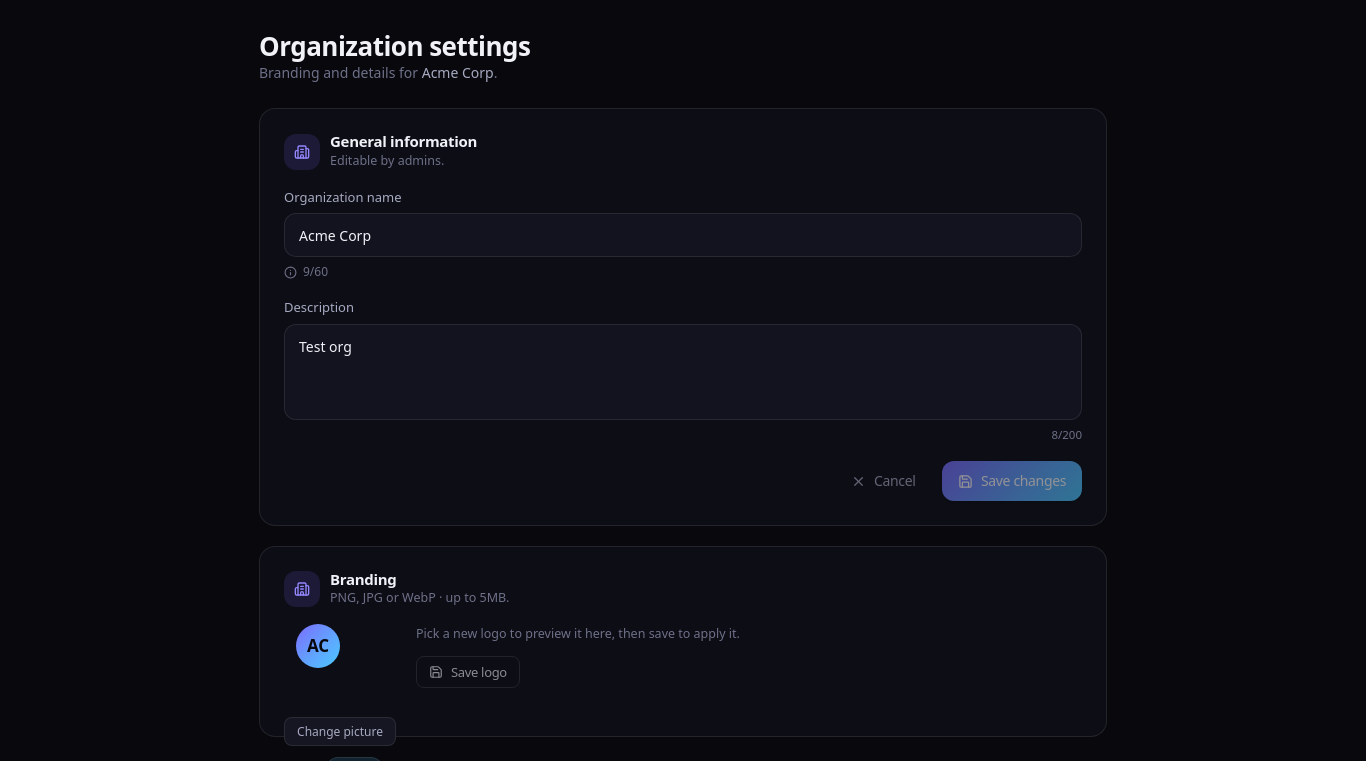
it: OrganizationSettings page › saves org info changes
This screenshot has width=1366, height=761.
Replace the text in the field labelled "Organization name" with "Updated Corp" at (683, 235), box x1=284 y1=213 x2=1082 y2=257
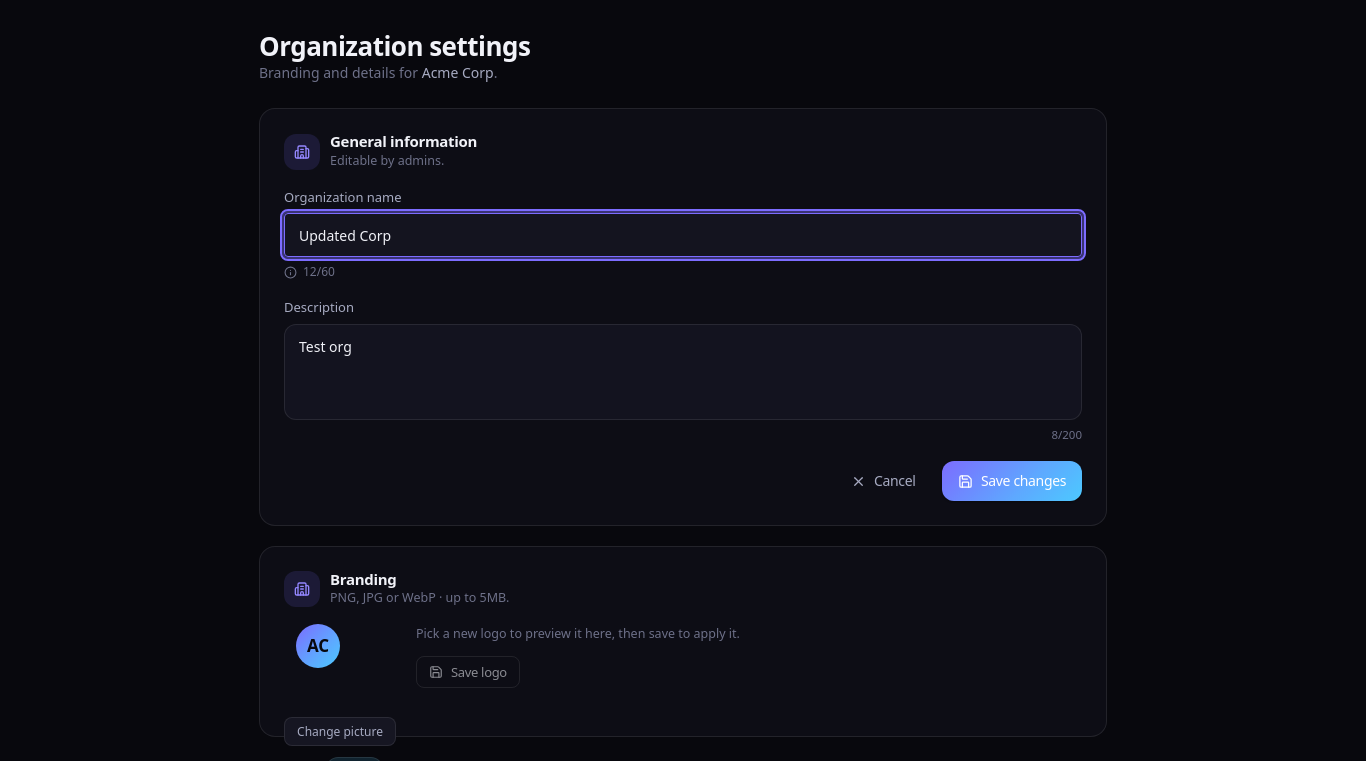
Click the button "Save changes" at (1012, 480), box x1=942 y1=460 x2=1082 y2=500
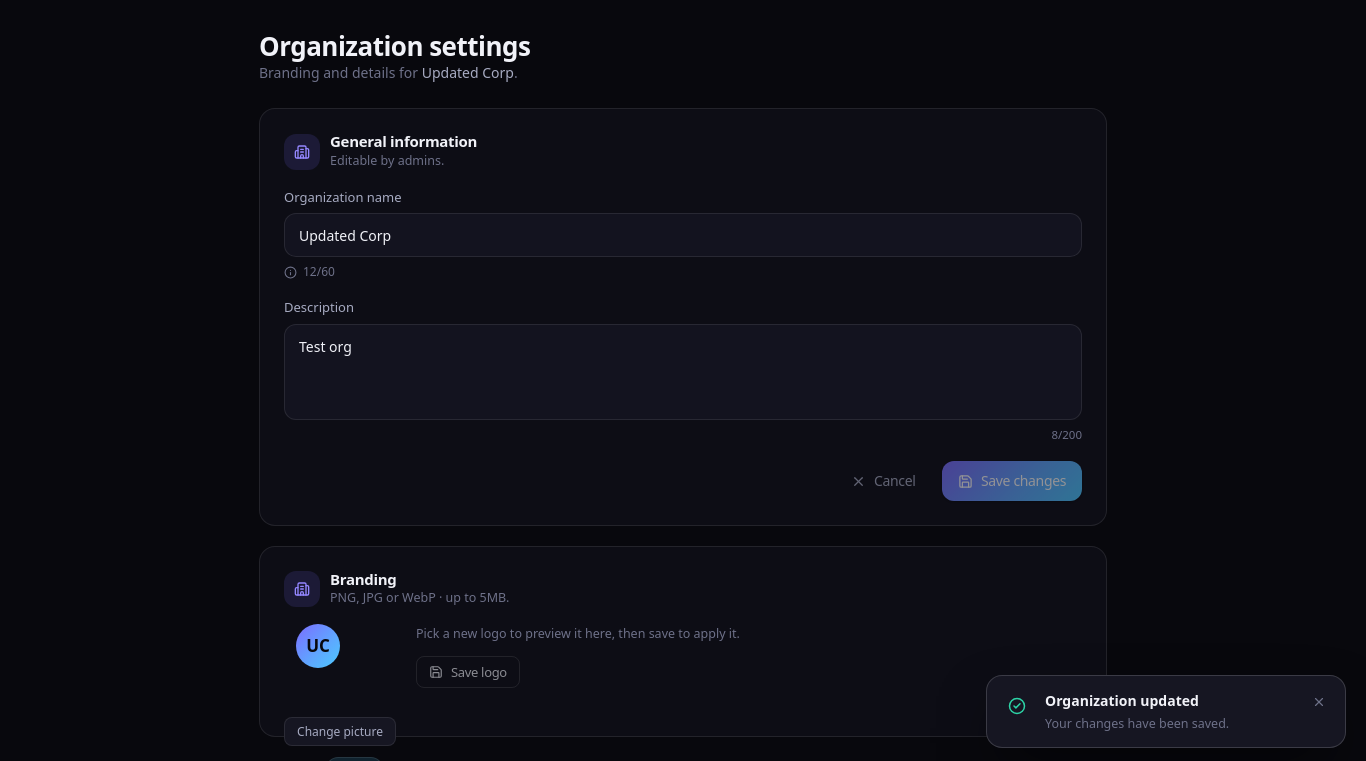
Now the text "Organization updated" is shown, box x1=1045 y1=692 x2=1199 y2=710
